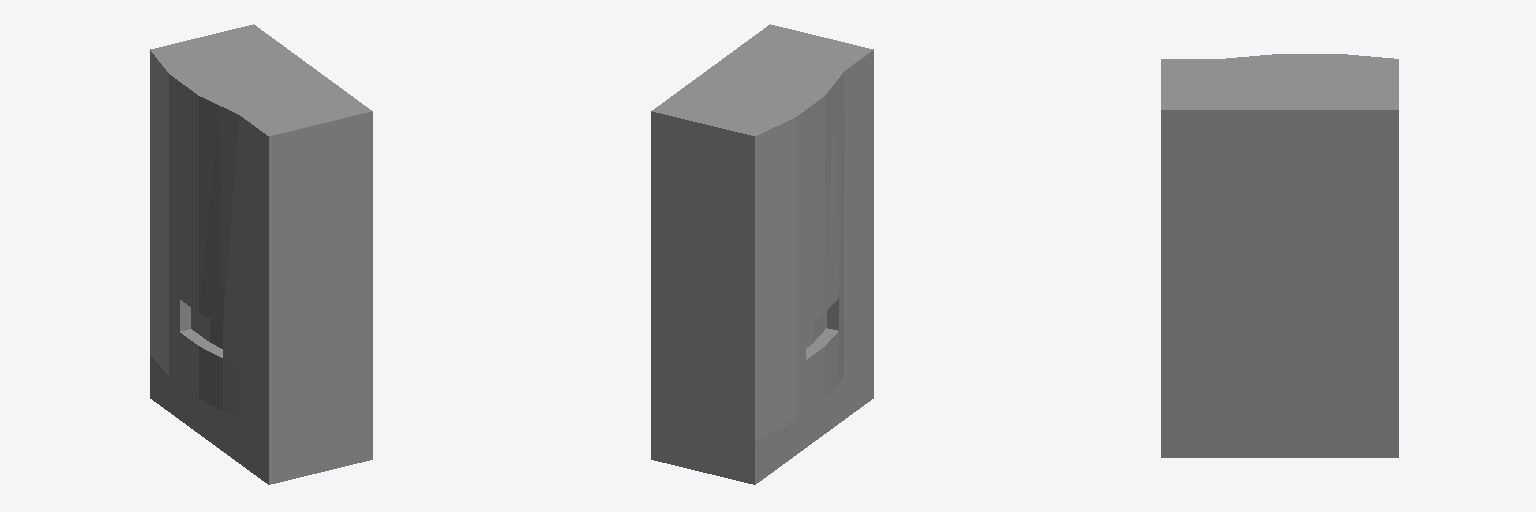
The model's file is getrankeautomat.obj.
The picture shows the model from 3 angles: view 1: azimuth 30°, elevation 25°; view 2: azimuth 150°, elevation 25°; view 3: azimuth 270°, elevation 25°; orthographic projection.
Visible parts, largest first — view 1: Cube.013_Cube.014; view 2: Cube.013_Cube.014; view 3: Cube.013_Cube.014.
Boxes of the visible parts, box(x1,y1,x2,y2) form: Cube.013_Cube.014: box(150, 24, 372, 484); Cube.013_Cube.014: box(651, 24, 873, 484); Cube.013_Cube.014: box(1161, 54, 1398, 457).
Size of the model in its own units: 1.88 by 5.46 by 3.37.